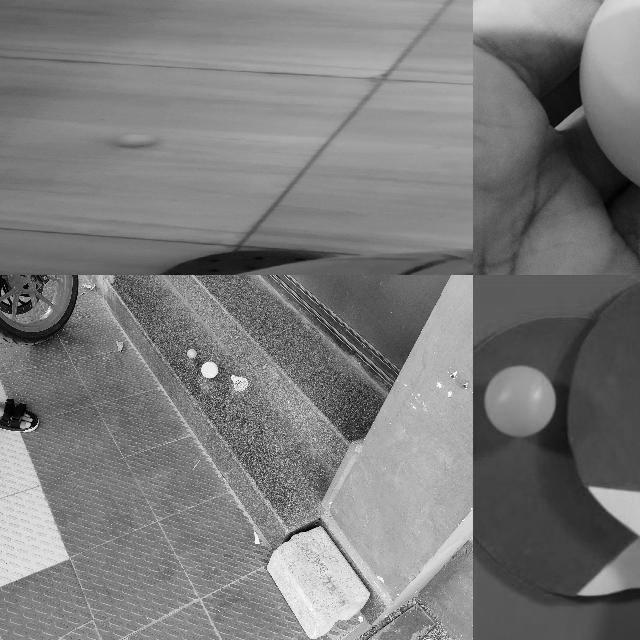ping-pong-ball: (579, 0, 639, 208), (485, 364, 555, 436), (113, 134, 153, 148), (184, 347, 193, 357)
